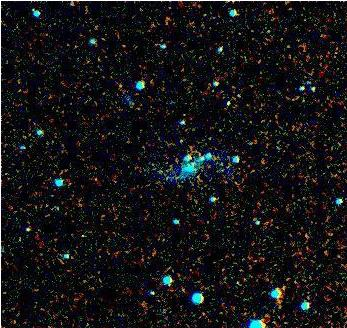star: (14, 0, 44, 25)
